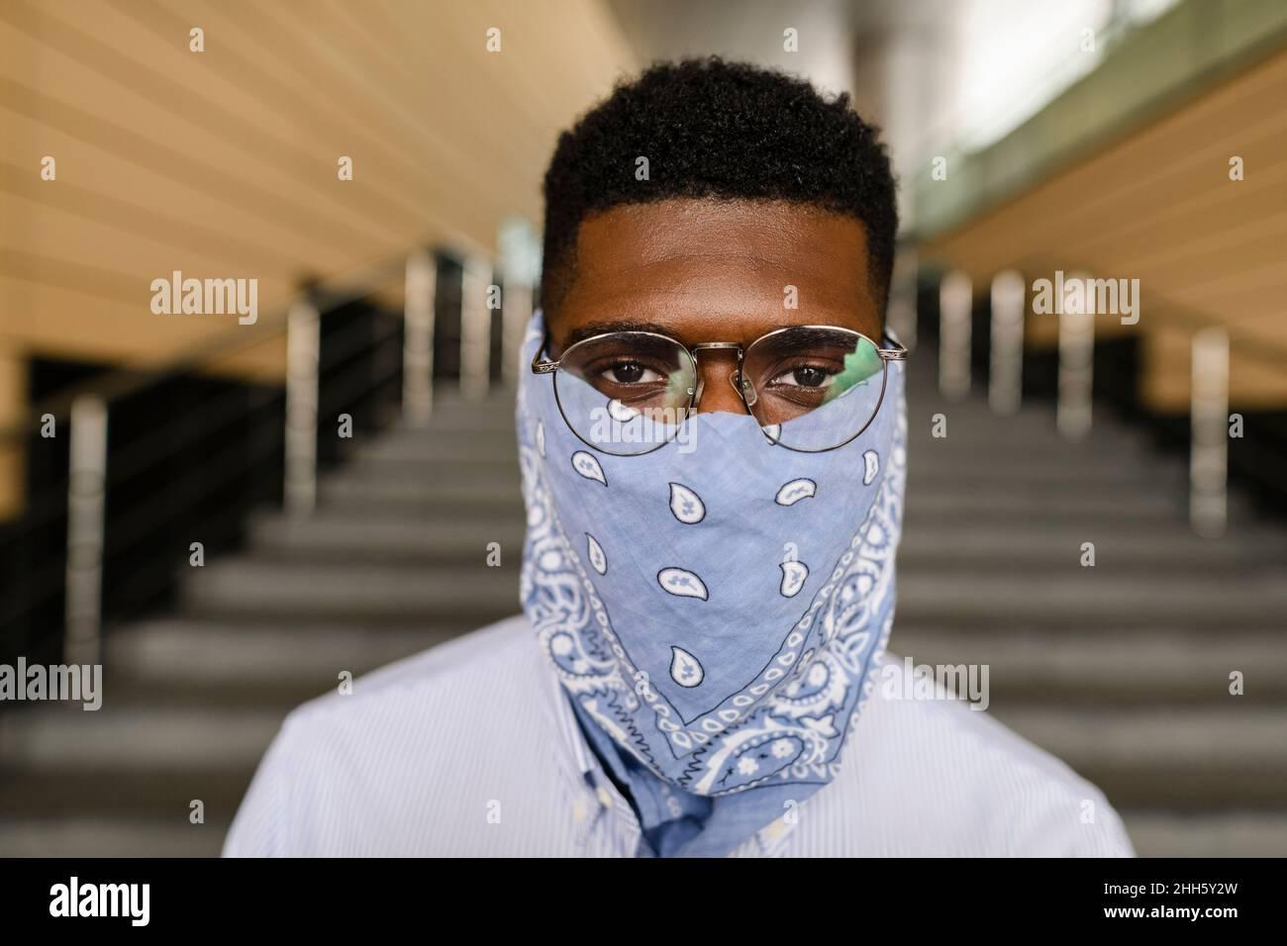scarf-kerchief: (490, 302, 934, 854)
sunglasses: (535, 315, 906, 460)
